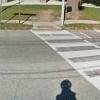Crosswalk: (32, 24, 100, 91)
